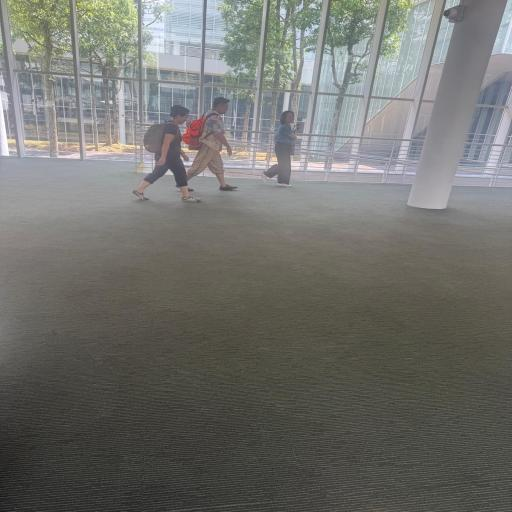person_right: (132, 104, 201, 202), (176, 96, 238, 192), (260, 110, 298, 188)
